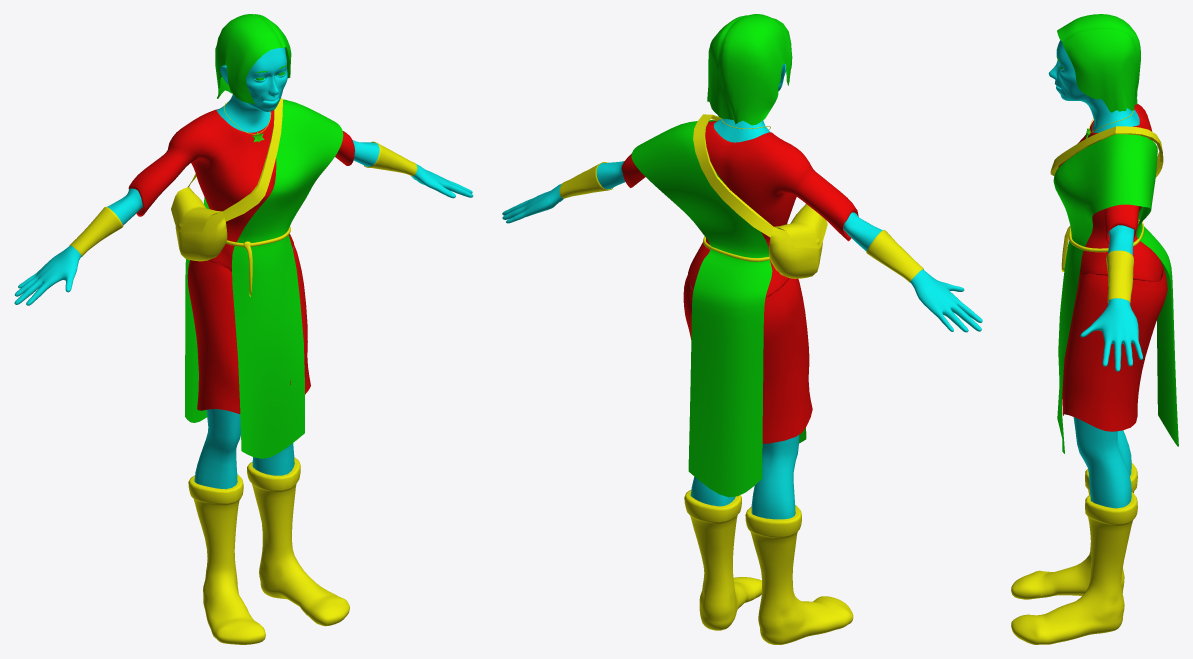
Rendered from GershaModel3.fbx.
The picture shows the model from 3 angles, left to right: view 1: azimuth 30°, elevation 25°; view 2: azimuth 150°, elevation 25°; view 3: azimuth 270°, elevation 25°; orthographic projection. The views are drawn at different scales.
Parts seen in each view (by area): view 1: pPlane3, polySurface19, polySurface20, GenericMesh7, polySurface10, polySurface12, pCube9, Hair1, polySurface16, polySurface13, polySurface15, polySurface11; view 2: pPlane3, polySurface19, Hair1, GenericMesh7, polySurface12, polySurface20, polySurface10, pCube9, polySurface16, polySurface13, polySurface15, polySurface11; view 3: pPlane3, GenericMesh7, polySurface10, polySurface20, Hair1, polySurface19, polySurface12, polySurface15, polySurface11, pCube9, pPipe2.
Boxes of the visible parts, box(x1,y1,x2,y2) form: pPlane3: box(185, 99, 343, 458); polySurface19: box(128, 109, 354, 271); polySurface20: box(107, 47, 379, 489); GenericMesh7: box(187, 244, 310, 414); polySurface10: box(247, 457, 349, 626); polySurface12: box(188, 474, 265, 644); pCube9: box(171, 98, 283, 261); Hair1: box(215, 14, 291, 104); polySurface16: box(14, 245, 81, 305); polySurface13: box(69, 207, 123, 256); polySurface15: box(411, 164, 473, 198); polySurface11: box(364, 141, 417, 176); pPlane3: box(631, 120, 806, 497); polySurface19: box(621, 120, 858, 297); Hair1: box(707, 14, 792, 125); GenericMesh7: box(683, 275, 812, 443); polySurface12: box(745, 505, 853, 644); polySurface20: box(596, 63, 882, 519); polySurface10: box(684, 490, 761, 630); pCube9: box(693, 114, 827, 278); polySurface16: box(910, 269, 982, 332); polySurface13: box(866, 230, 923, 282); polySurface15: box(502, 183, 563, 223); polySurface11: box(559, 162, 613, 198); pPlane3: box(1053, 134, 1178, 453); GenericMesh7: box(1062, 263, 1167, 431); polySurface10: box(1011, 492, 1137, 644); polySurface20: box(1048, 40, 1139, 508); Hair1: box(1057, 14, 1140, 112); polySurface19: box(1058, 104, 1162, 281); polySurface12: box(1011, 463, 1137, 599); polySurface15: box(1080, 298, 1142, 371); polySurface11: box(1106, 250, 1133, 303); pCube9: box(1050, 126, 1163, 177); pPipe2: box(1061, 219, 1144, 271).
Bounding box in the file's own units: 29.33 × 35.91 × 9.13.
